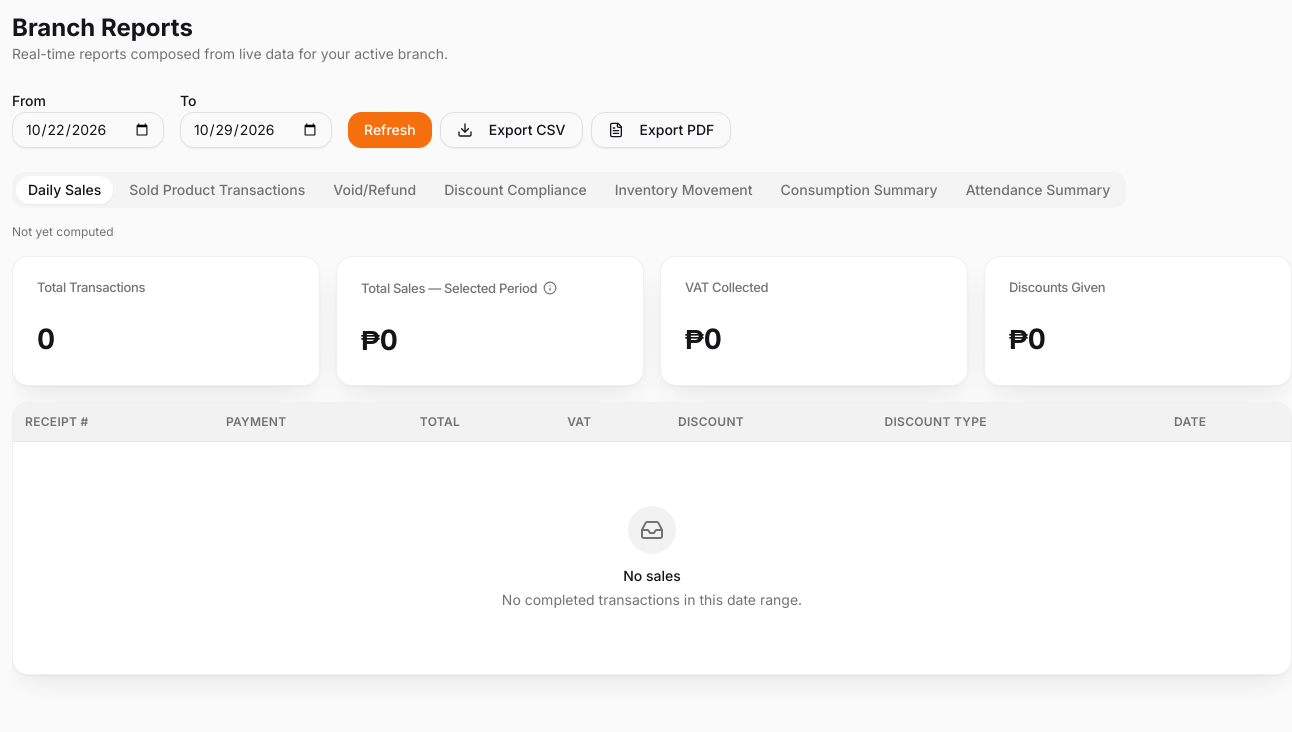
Test case: ReportsView — Inventory Movement tab (aligned InventoryStockMovement source) › TEST B — renders a RECEIVING movement row with before/change/after quantities and unit
Press the mouse on the tab "Inventory Movement": (684, 190) x1=603 y1=176 x2=765 y2=204
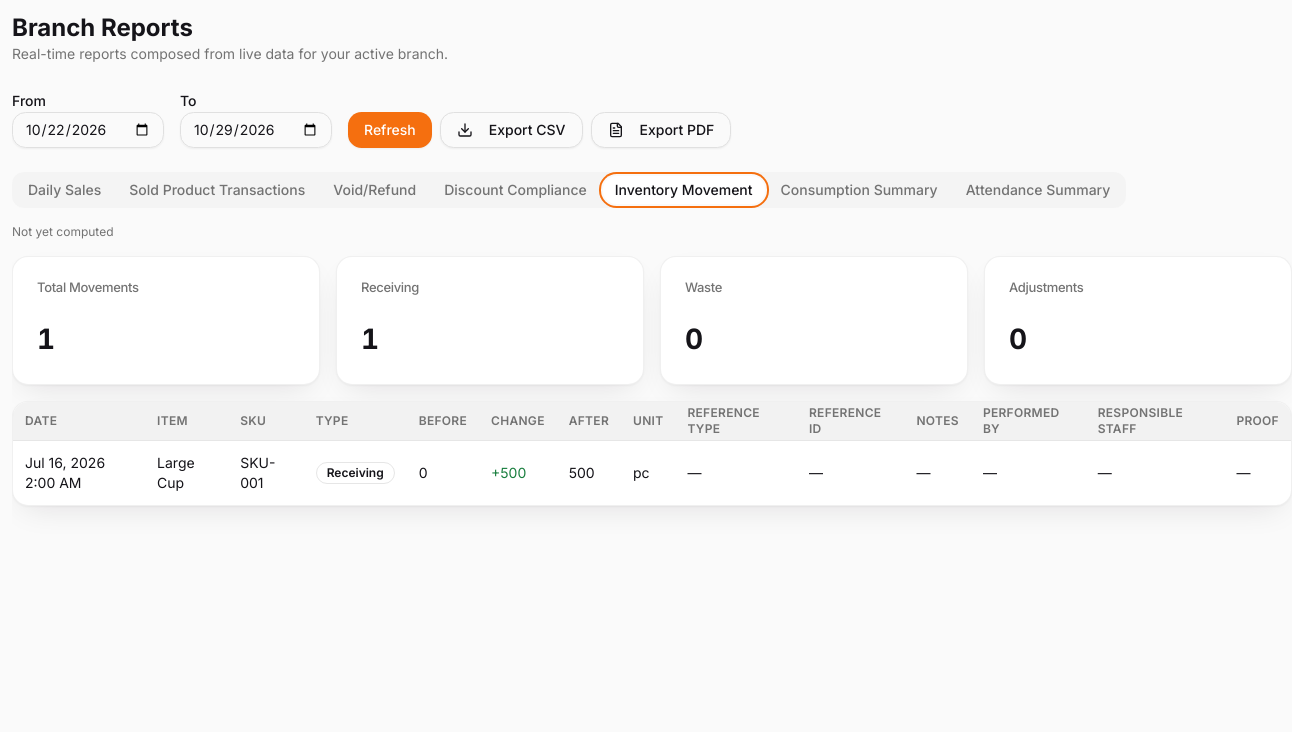
Now the text "Large Cup" is shown, box x1=157 y1=454 x2=195 y2=490
Now the text "Receiving" in the row of "Jul 16, 2026 2:00 AM" is shown, box x1=327 y1=464 x2=384 y2=480
Now the text "0" is shown, box x1=407 y1=440 x2=479 y2=504
